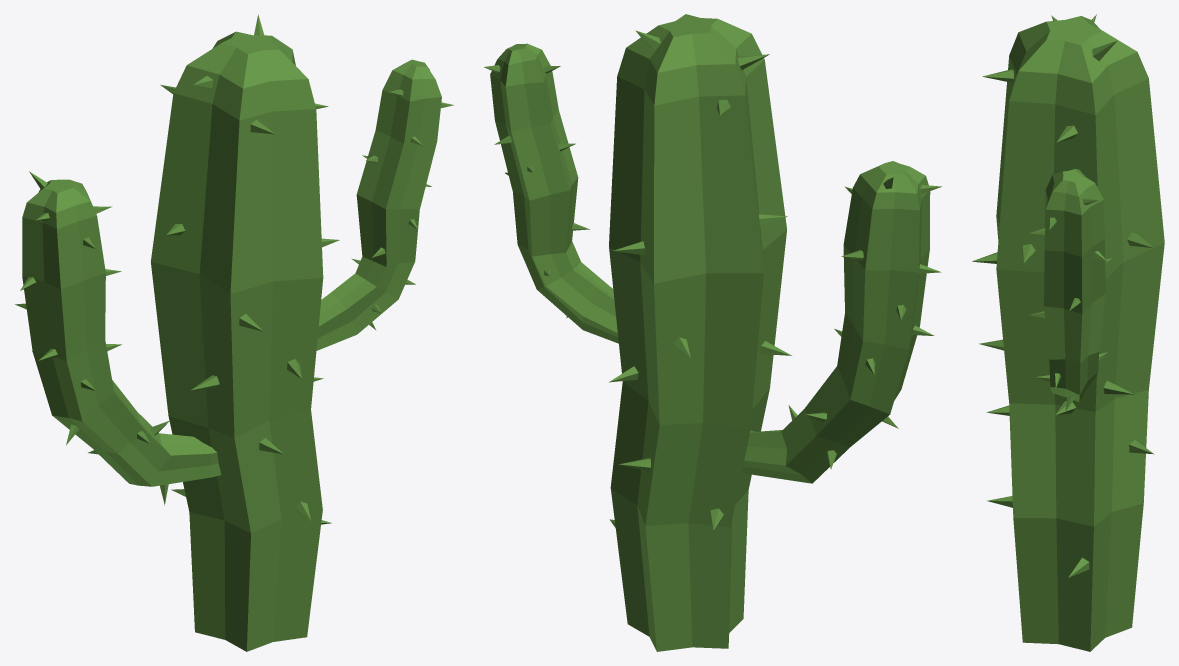
Rendered from Cacus.fbx.
3 renders of one model, left to right at view 1: azimuth 30°, elevation 25°; view 2: azimuth 150°, elevation 25°; view 3: azimuth 270°, elevation 25°, orthographic. The views are drawn at different scales.
Visible parts, largest first — view 1: Cacus; view 2: Cacus; view 3: Cacus.
Part boxes in pixels (x1,y1,x2,y2): Cacus: (15,14,453,651); Cacus: (484,14,941,651); Cacus: (972,14,1164,651).
Bounding box in the file's own units: 656 × 859 × 251.
